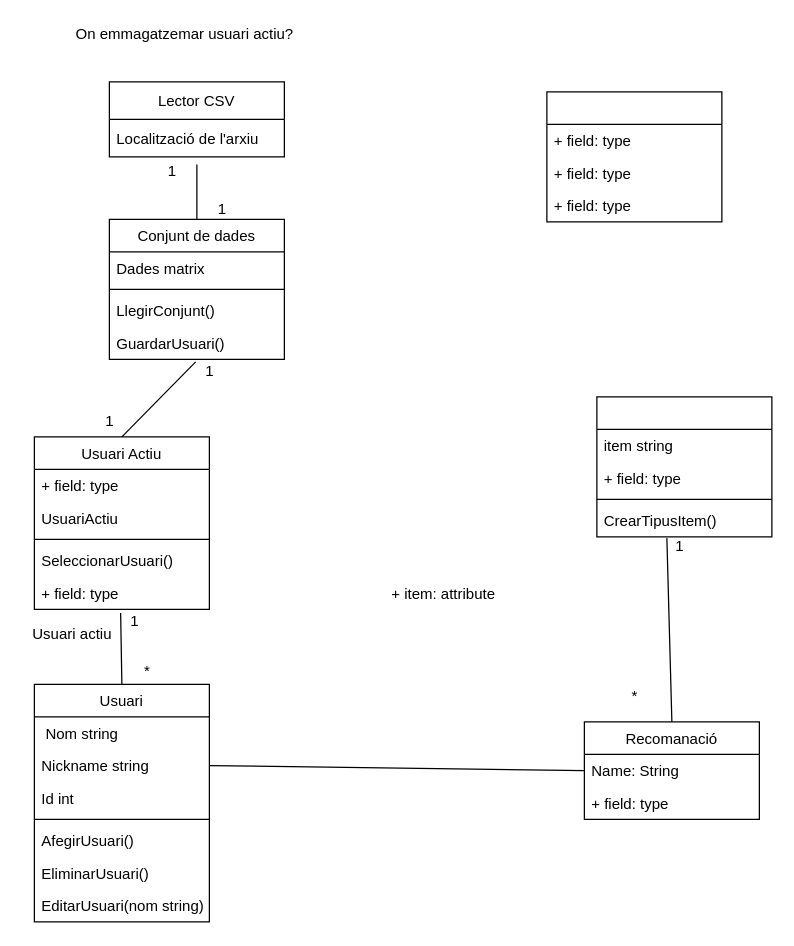
The diagram is 794 pixels wide and 946 high, and some of its shapes have lost their labels. Each missing label, with the box of its shape:
Classname: (546, 91, 722, 222)
Tipus d'ítem: (596, 396, 772, 537)
